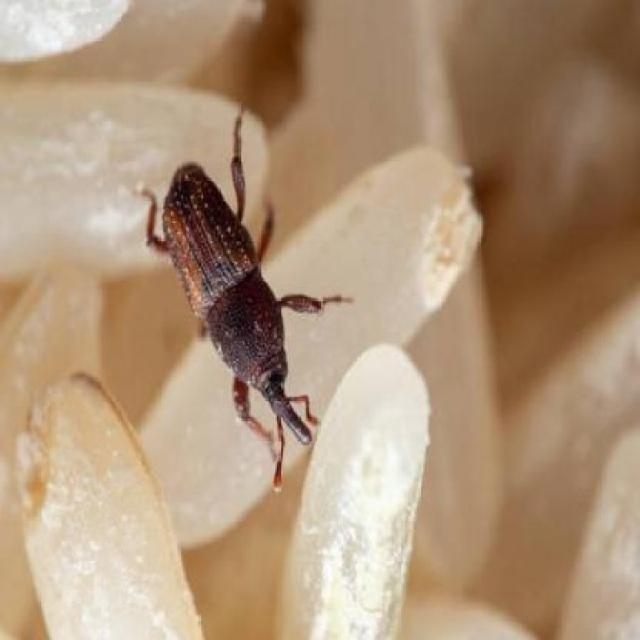rice-bug: (161, 155, 327, 448)
